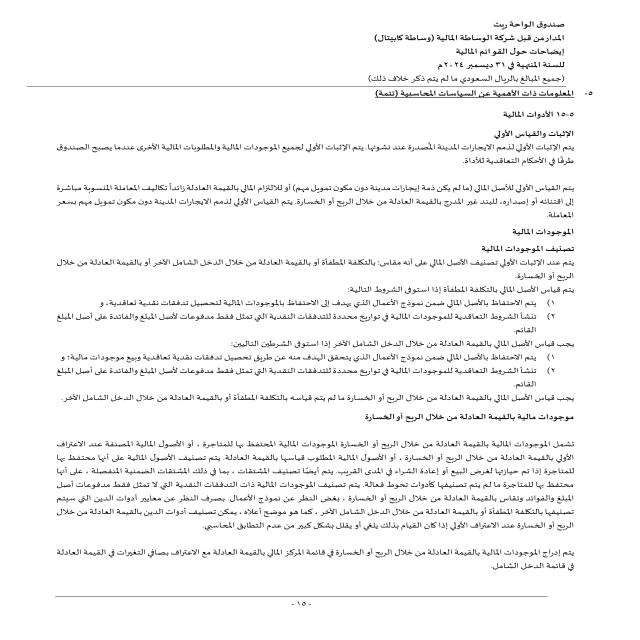notes: (440, 43, 571, 57)
text: (28, 104, 596, 604)
